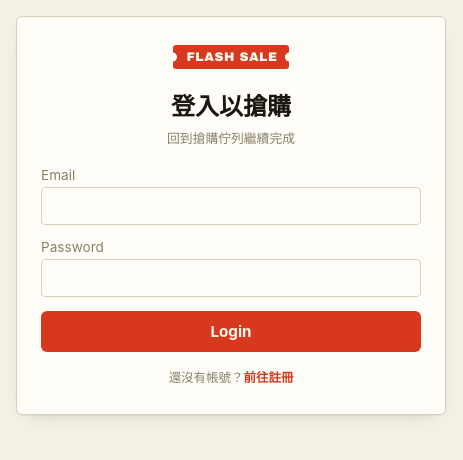
Test case: LoginPage › shows the validation message instead of letting native browser validation swallow the submit
Type "not-an-email" into the field labelled "Email" at (231, 206), box [41,187,421,225]
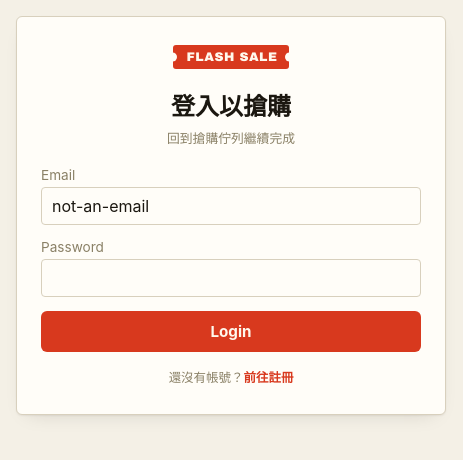
Type "x" into the password field labelled "Password" at (231, 278), box [41,259,421,297]
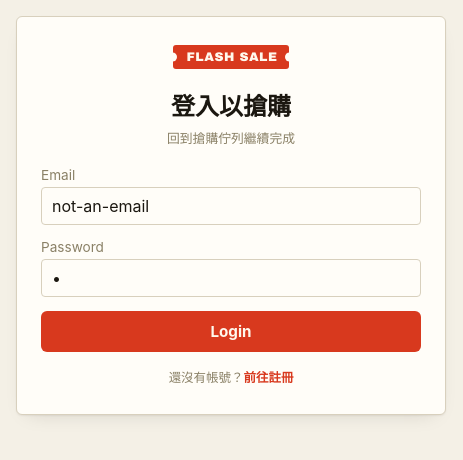
Click the button "Login" at (231, 332), box [41,311,421,352]
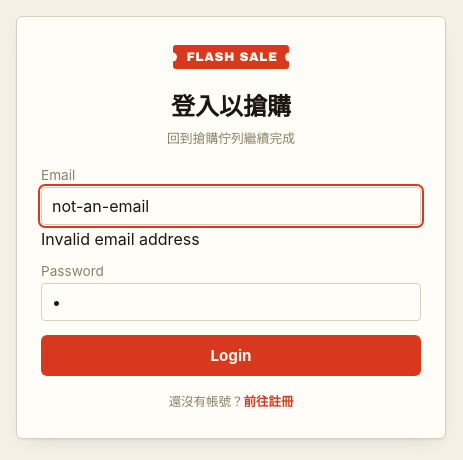
Expected: the message is shown, [41,229,200,249]
